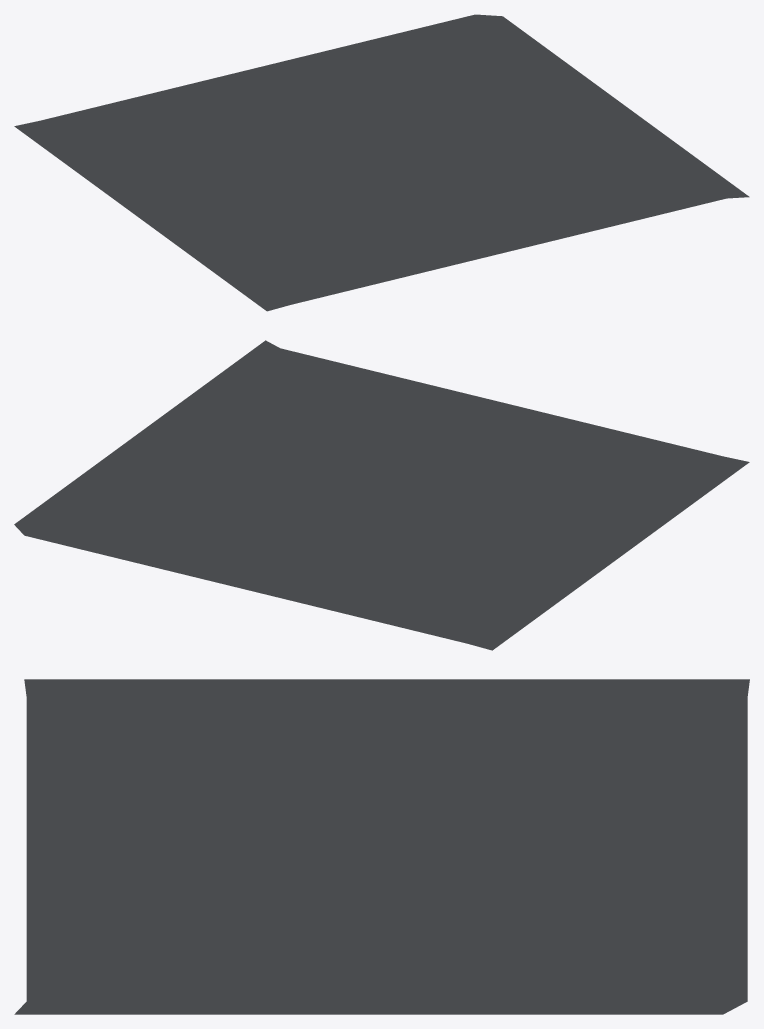
File: Sciences_Floor_Fill.fbx
3 renders of one model, top to bottom at view 1: azimuth 30°, elevation 25°; view 2: azimuth 150°, elevation 25°; view 3: azimuth 270°, elevation 25°, orthographic. The views are drawn at different scales.
Parts seen in each view (by area): view 1: Sciences_Floor_Fill; view 2: Sciences_Floor_Fill; view 3: Sciences_Floor_Fill.
Boxes of the visible parts, <box> form: Sciences_Floor_Fill: <box>14,14,749,311</box>; Sciences_Floor_Fill: <box>14,340,749,650</box>; Sciences_Floor_Fill: <box>14,679,749,1014</box>.
Size of the model in its own units: 42.55 by 4.88e-06 by 39.45.
